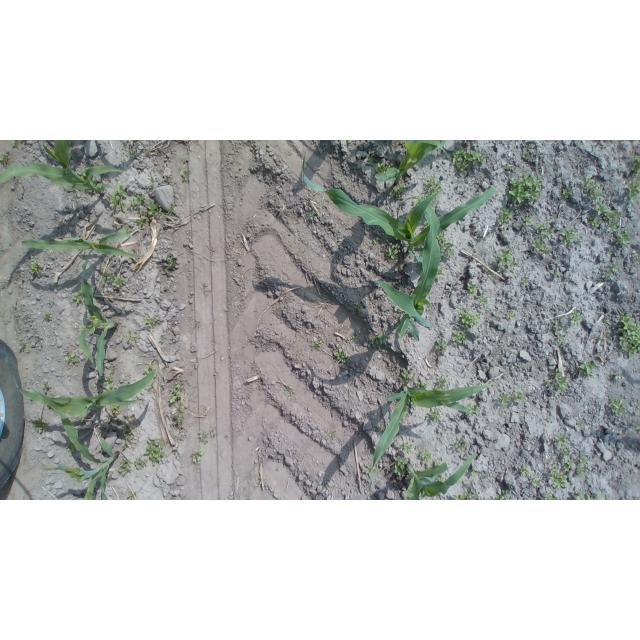Maize: (299, 151, 497, 265), (368, 383, 494, 490), (373, 195, 440, 342), (35, 388, 118, 500), (16, 372, 157, 424), (0, 140, 124, 197), (78, 258, 117, 379), (22, 230, 142, 259), (406, 452, 475, 500), (396, 141, 455, 184)
Weeds: (508, 172, 543, 205), (617, 312, 640, 357), (451, 149, 485, 176), (591, 204, 621, 233), (549, 461, 574, 488), (579, 176, 604, 201), (436, 231, 456, 261), (545, 368, 568, 393), (144, 440, 164, 466), (424, 178, 443, 205), (109, 185, 128, 212), (496, 248, 517, 268), (458, 309, 481, 327), (624, 180, 640, 205), (554, 435, 570, 460), (102, 271, 126, 287), (537, 220, 556, 240), (608, 396, 626, 417), (579, 356, 597, 376), (142, 200, 162, 217), (91, 177, 111, 194), (393, 455, 407, 477), (575, 490, 604, 500), (498, 208, 513, 227), (375, 162, 396, 175), (369, 332, 386, 347), (532, 238, 549, 253), (562, 227, 576, 245), (170, 384, 183, 403), (128, 195, 144, 210), (452, 330, 468, 345), (602, 263, 619, 277), (120, 425, 132, 444), (386, 244, 400, 260), (392, 182, 405, 199), (173, 407, 186, 424), (124, 331, 141, 344), (436, 339, 449, 356), (631, 154, 640, 178), (401, 443, 419, 455), (426, 409, 441, 423), (32, 418, 46, 433), (572, 309, 583, 328), (64, 352, 80, 365), (29, 258, 42, 274), (616, 232, 632, 245), (119, 460, 131, 477), (465, 402, 479, 416), (453, 492, 477, 500), (193, 448, 204, 464), (167, 253, 178, 269), (492, 490, 509, 500), (145, 364, 157, 378), (143, 315, 157, 327), (419, 449, 431, 463), (337, 348, 348, 363), (558, 189, 573, 200), (73, 291, 85, 304), (466, 283, 478, 296), (365, 464, 376, 478), (498, 395, 513, 405), (402, 368, 411, 384), (103, 376, 114, 389), (135, 459, 148, 470), (520, 464, 531, 477), (514, 392, 527, 403), (476, 297, 489, 308), (310, 339, 324, 349), (436, 379, 448, 390), (435, 268, 446, 279), (455, 440, 465, 452), (556, 333, 568, 343), (545, 492, 559, 500), (532, 476, 541, 488), (0, 151, 8, 164), (111, 405, 121, 415), (77, 168, 87, 178), (577, 466, 586, 477), (551, 268, 562, 277), (180, 170, 188, 182), (66, 443, 76, 452), (580, 455, 589, 465), (554, 320, 563, 330), (507, 312, 517, 321), (523, 215, 532, 225), (169, 203, 176, 215), (415, 196, 424, 205), (126, 492, 136, 500), (200, 435, 208, 445), (129, 148, 137, 158), (137, 217, 144, 228), (372, 236, 381, 244), (44, 312, 53, 320), (155, 228, 163, 237), (471, 469, 480, 477), (367, 156, 375, 164), (42, 380, 50, 388), (614, 371, 622, 379), (523, 151, 530, 159), (309, 212, 316, 220), (416, 269, 424, 276), (422, 382, 429, 390), (183, 156, 192, 162), (123, 224, 129, 233), (149, 180, 155, 189), (430, 461, 439, 467), (504, 165, 512, 171), (48, 392, 56, 398), (18, 343, 25, 349), (439, 477, 446, 483), (604, 317, 610, 324), (522, 278, 528, 285), (424, 220, 429, 228), (354, 304, 362, 309), (605, 333, 611, 339), (73, 468, 80, 473), (351, 332, 356, 339), (576, 423, 583, 428), (635, 422, 640, 429), (416, 381, 421, 387), (375, 428, 381, 433), (328, 432, 334, 437), (483, 476, 489, 481), (569, 368, 574, 373), (579, 236, 584, 241), (636, 253, 640, 259), (146, 384, 152, 388), (137, 141, 144, 144), (608, 252, 613, 256), (51, 407, 56, 411), (160, 338, 164, 343), (12, 141, 16, 146), (284, 390, 288, 395), (346, 141, 352, 144)
